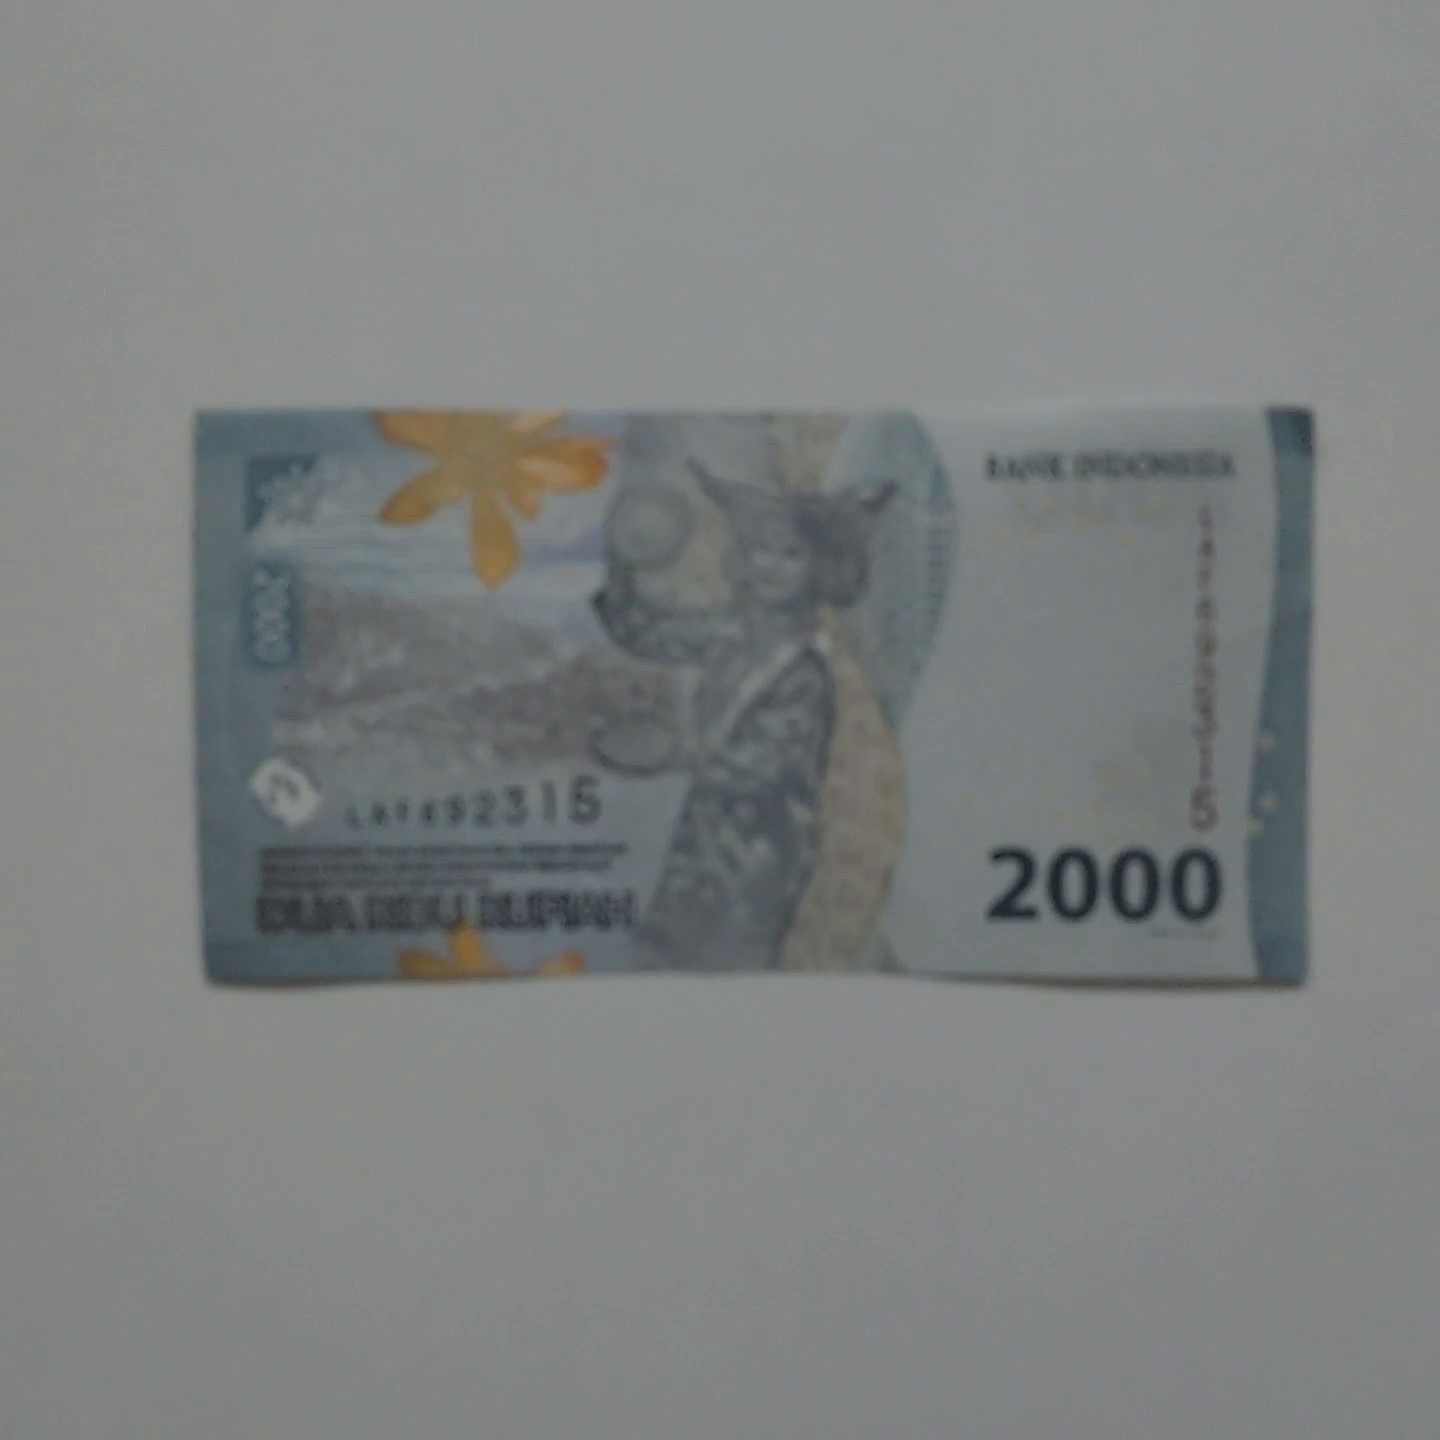2k: (128, 377, 1341, 1013)
